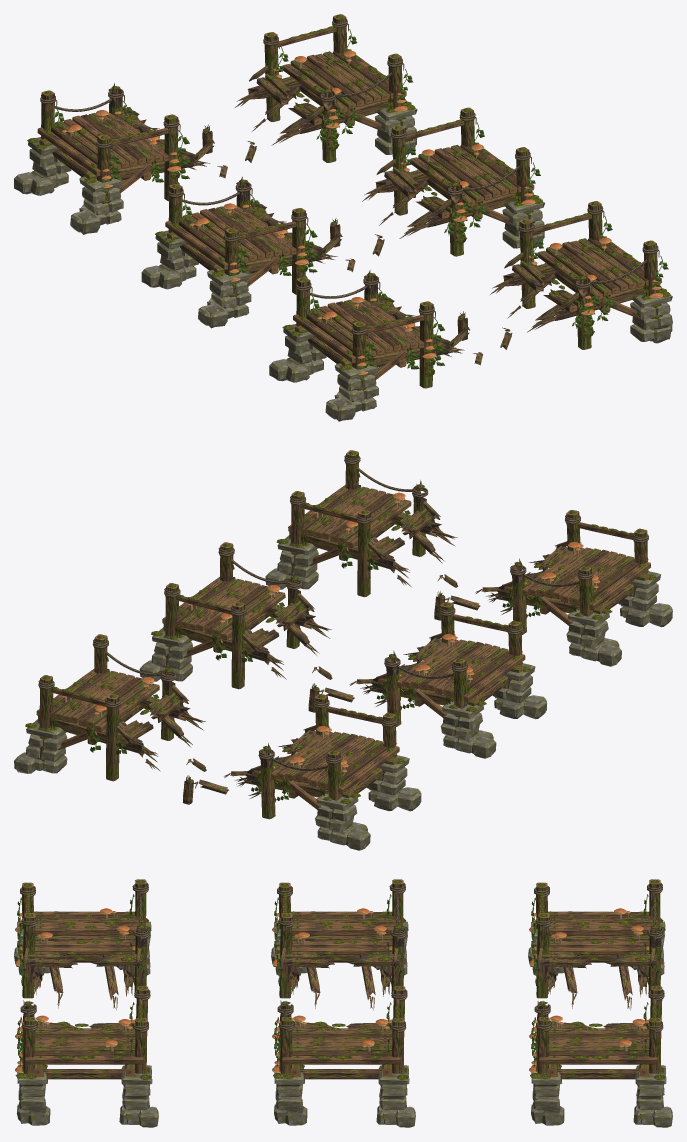
File: Reuse_3_Instances.glb
3 views of the same model, one above another, from view 1: azimuth 30°, elevation 25°; view 2: azimuth 150°, elevation 25°; view 3: azimuth 270°, elevation 25° (orthographic). The views are drawn at different scales.
Visible parts, largest first — view 1: SM_BrokenBridge, BrokenBridge_Instance_02, BrokenBridge_Instance_03; view 2: BrokenBridge_Instance_03, SM_BrokenBridge, BrokenBridge_Instance_02; view 3: BrokenBridge_Instance_03, BrokenBridge_Instance_02, SM_BrokenBridge.
Boxes of the visible parts, left/top/right/bottom form: SM_BrokenBridge: left=269, top=201, right=672, bottom=421; BrokenBridge_Instance_02: left=141, top=107, right=544, bottom=328; BrokenBridge_Instance_03: left=14, top=14, right=417, bottom=234; BrokenBridge_Instance_03: left=14, top=634, right=421, bottom=850; SM_BrokenBridge: left=265, top=450, right=672, bottom=666; BrokenBridge_Instance_02: left=139, top=542, right=547, bottom=758; BrokenBridge_Instance_03: left=528, top=879, right=672, bottom=1127; BrokenBridge_Instance_02: left=271, top=879, right=415, bottom=1127; SM_BrokenBridge: left=14, top=879, right=158, bottom=1127.
Size of the model in its own units: 11.89 by 3.24 by 19.23.
1 material, 1 textured.
